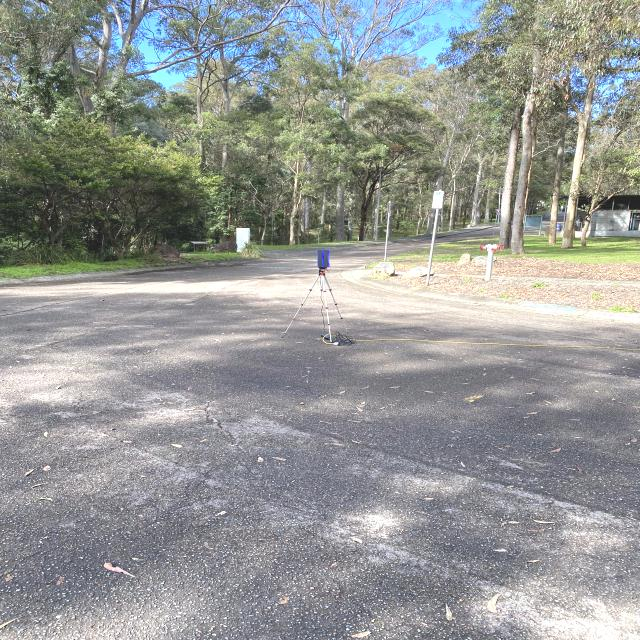matrix: (316, 249, 329, 268)
